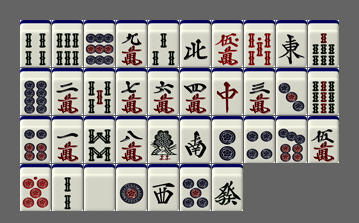0m: (212, 20, 243, 67)
0p: (20, 164, 51, 211)
0s: (244, 20, 275, 67)
1m: (52, 116, 83, 163)
1p: (116, 164, 147, 211)
1s: (148, 116, 179, 163)
1z: (276, 20, 307, 67)
2m: (52, 68, 83, 115)
2p: (212, 116, 243, 163)
2s: (52, 164, 83, 211)
2z: (180, 116, 211, 163)
3m: (244, 68, 275, 115)
3p: (276, 68, 307, 115)
3s: (148, 20, 179, 67)
3z: (148, 164, 179, 211)
4m: (180, 68, 211, 115)
4p: (244, 116, 275, 163)
4s: (20, 20, 51, 67)
4z: (180, 20, 211, 67)
5m: (308, 116, 339, 163)
5p: (180, 164, 211, 211)
5s: (84, 68, 115, 115)
5z: (84, 164, 115, 211)
6m: (148, 68, 179, 115)
6p: (20, 116, 51, 163)
6s: (52, 20, 83, 67)
6z: (212, 164, 243, 211)
7m: (116, 68, 147, 115)
7p: (276, 116, 307, 163)
7s: (308, 20, 339, 67)
7z: (212, 68, 243, 115)
8m: (116, 116, 147, 163)
8p: (20, 68, 51, 115)
8s: (84, 116, 115, 163)
9m: (116, 20, 147, 67)
9p: (84, 20, 115, 67)
9s: (308, 68, 339, 115)
